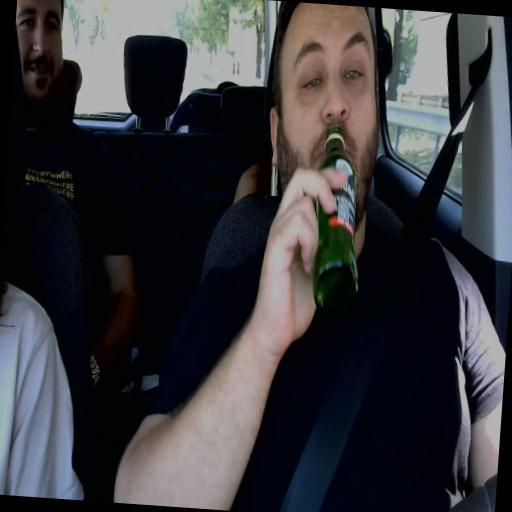Drinking: (270, 11, 379, 314)
